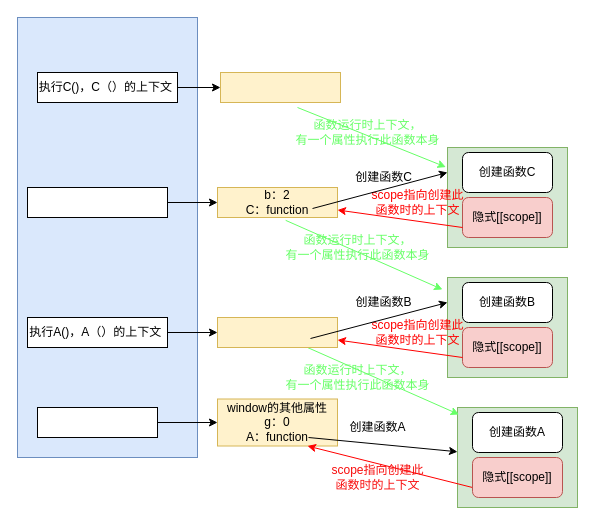
Image size: 595x525. Some labels were removed from this diagram. Here are the shapes that lost their labels. From the top down, the box of each, then its label:
(220, 72, 340, 102): c：3
(26, 186, 168, 218): 执行B()，B（）的上下文
(216, 316, 338, 348): a：1 B：function
(36, 406, 158, 438): 全局上下文
